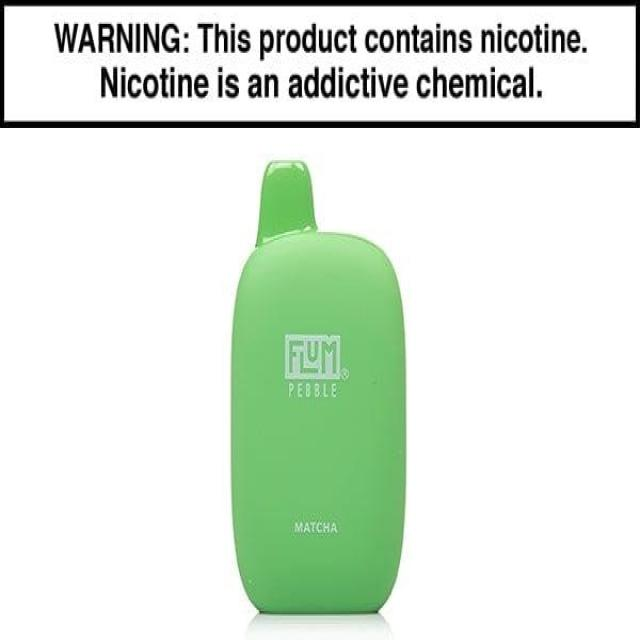Vapes: (215, 148, 411, 624)
